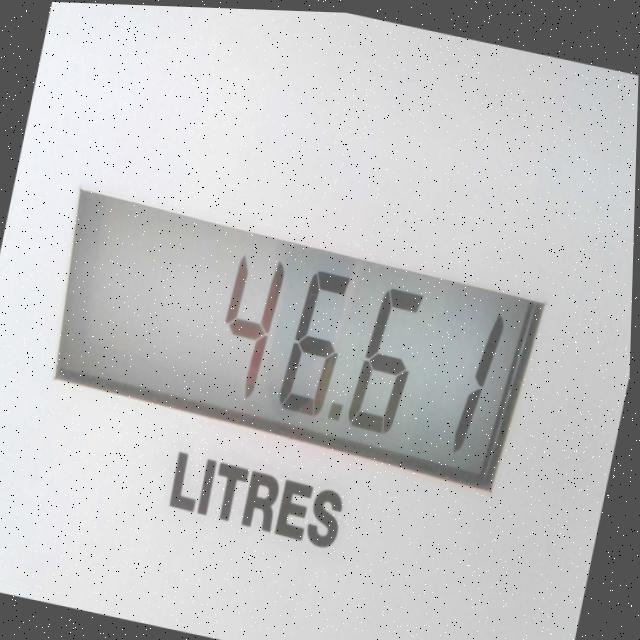.: (324, 391, 354, 446)
1: (441, 293, 527, 472)
4: (211, 251, 287, 408)
6: (341, 273, 436, 444), (278, 265, 355, 424)
